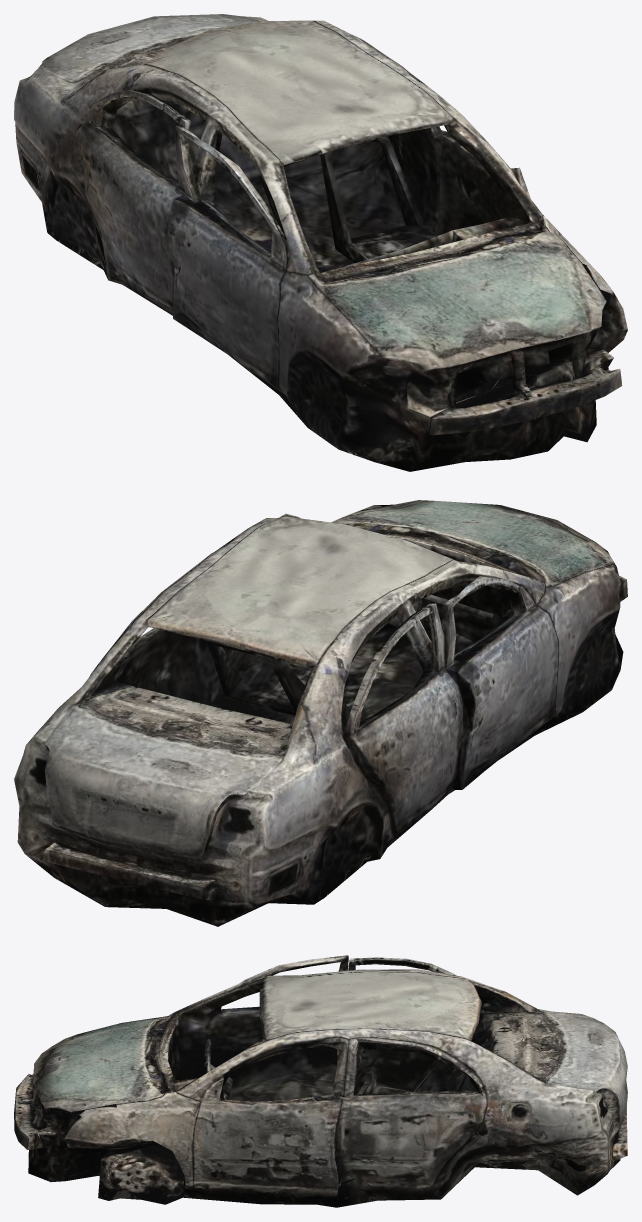
The model's file is SM_BurnedCompact.glb.
3 views of the same model, one above another, from view 1: azimuth 30°, elevation 25°; view 2: azimuth 150°, elevation 25°; view 3: azimuth 270°, elevation 25° (orthographic). The views are drawn at different scales.
Visible parts, largest first — view 1: SM_BurnedCompact; view 2: SM_BurnedCompact; view 3: SM_BurnedCompact.
Boxes of the visible parts, x1,y1,x2,y2 form: SM_BurnedCompact: (14,14,627,471); SM_BurnedCompact: (14,500,627,926); SM_BurnedCompact: (14,955,627,1207).
Bounding box in the file's own units: 124 × 81.19 × 290.
1 material, 1 textured.
